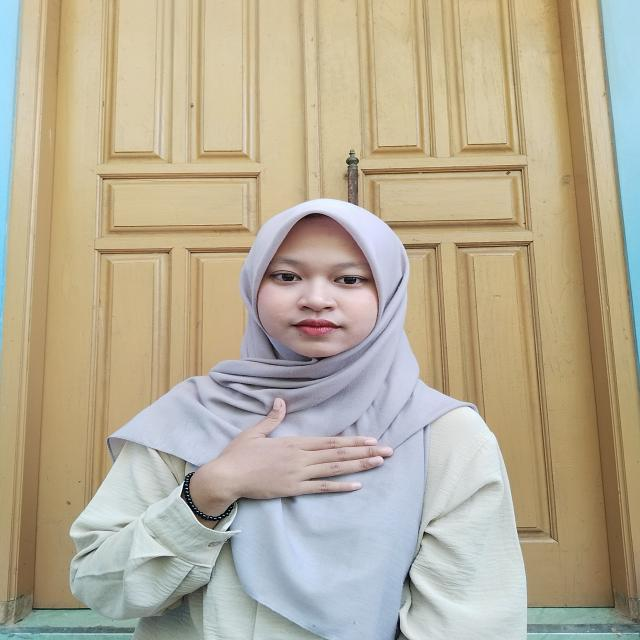tolong: (172, 398, 395, 533)
